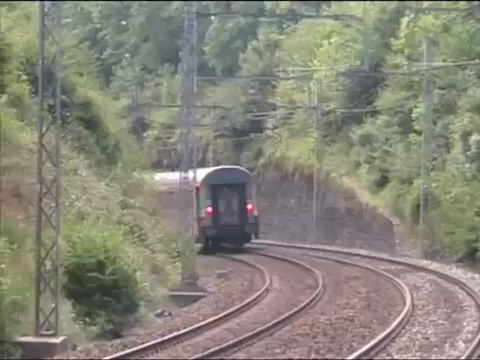train: (144, 161, 262, 254)
